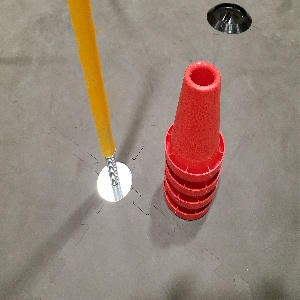Red_4: (162, 63, 223, 218)
